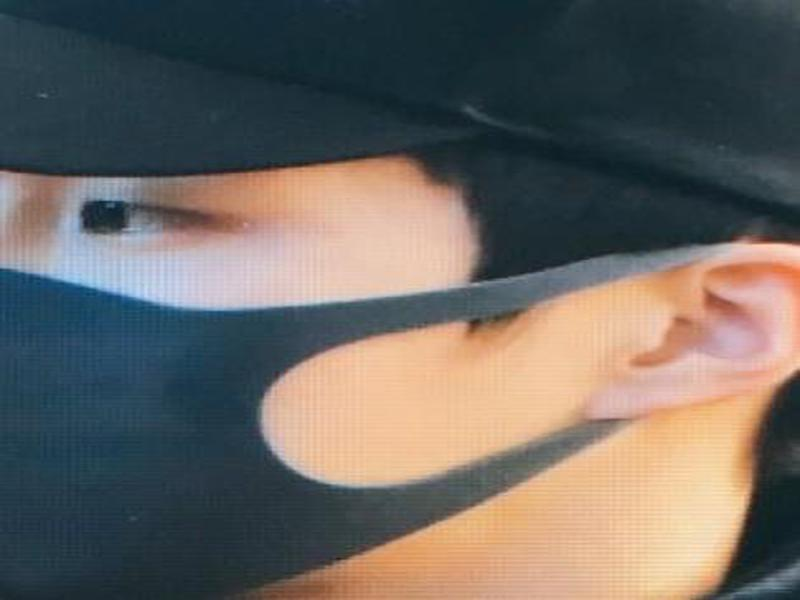with_mask: (1, 121, 795, 594)
